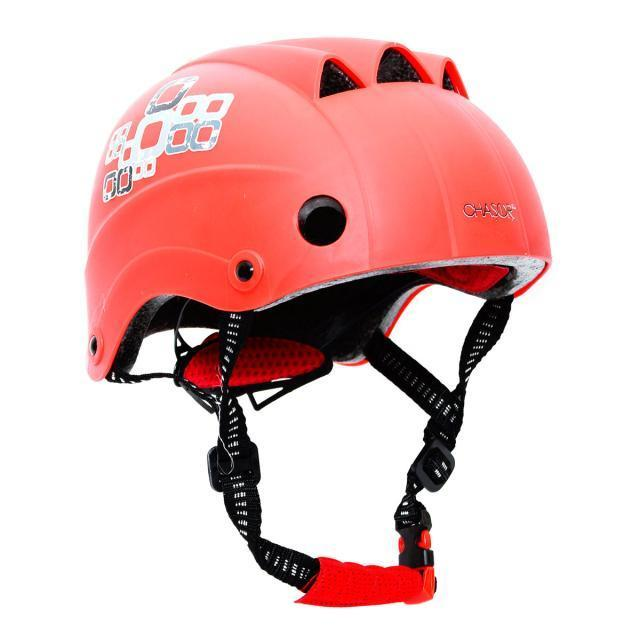helmet on: (86, 39, 552, 607)
